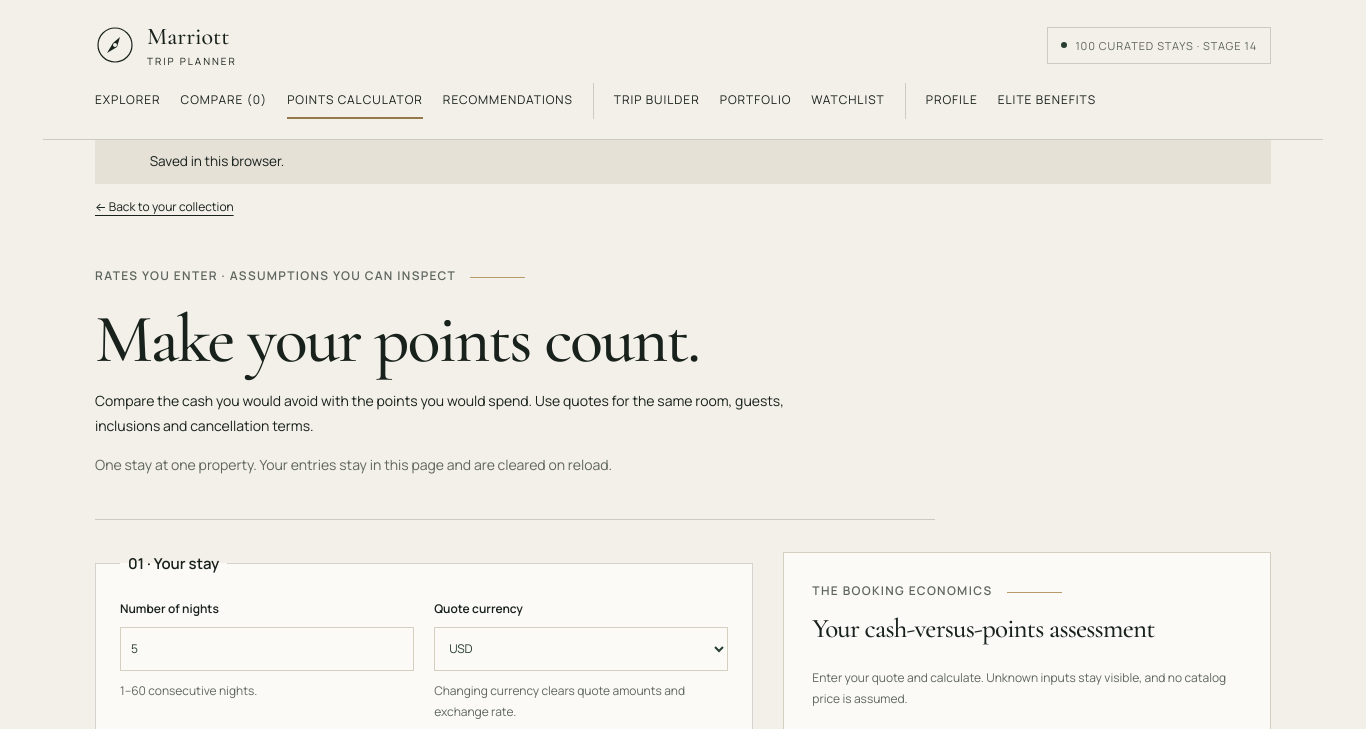
Test: Manual points calculator UI › requires manual FX without changing the personal USD valuation
Select "BRL" in the dropdown labelled "Quote currency" at [581, 649], box [434, 627, 728, 671]
(page scrolled)
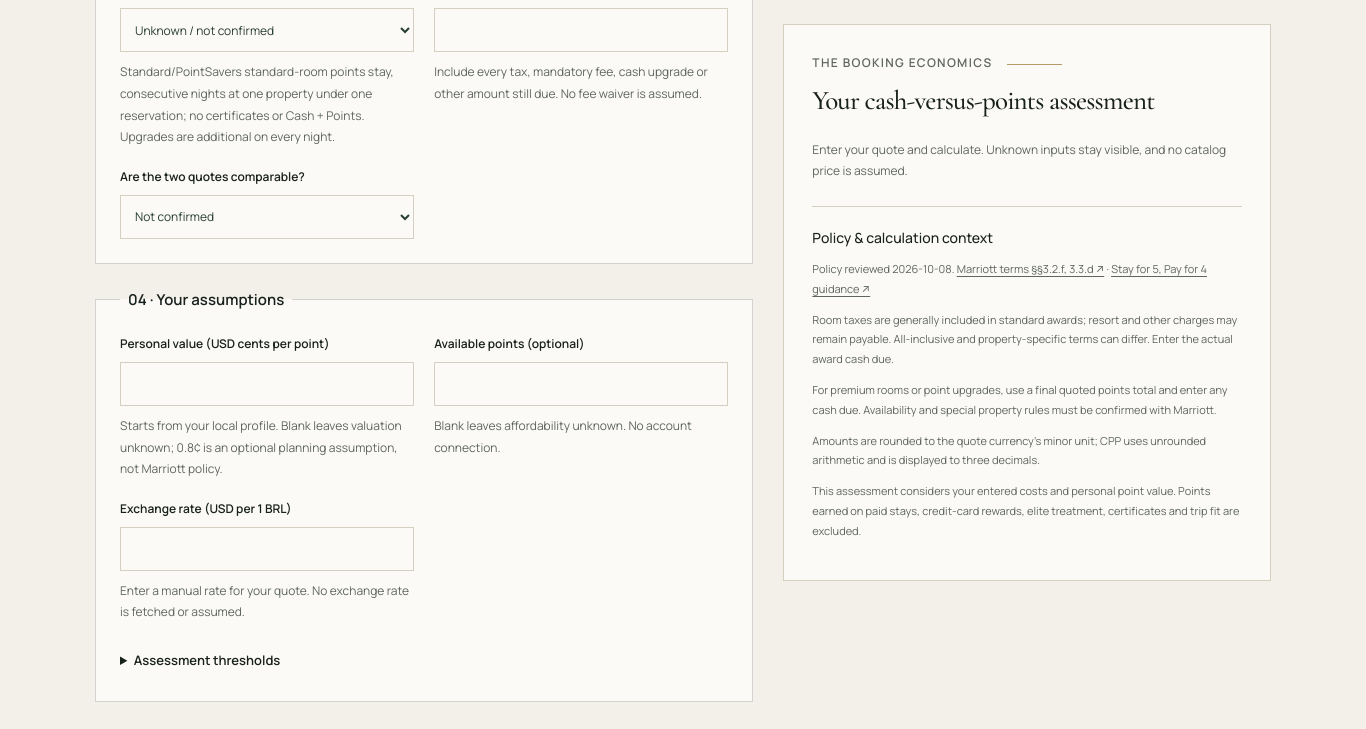
Check: the number field labelled "Personal value" is not empty, box [120, 362, 414, 406]
Check: the number field labelled "Exchange rate" is not empty, box [120, 527, 414, 571]
